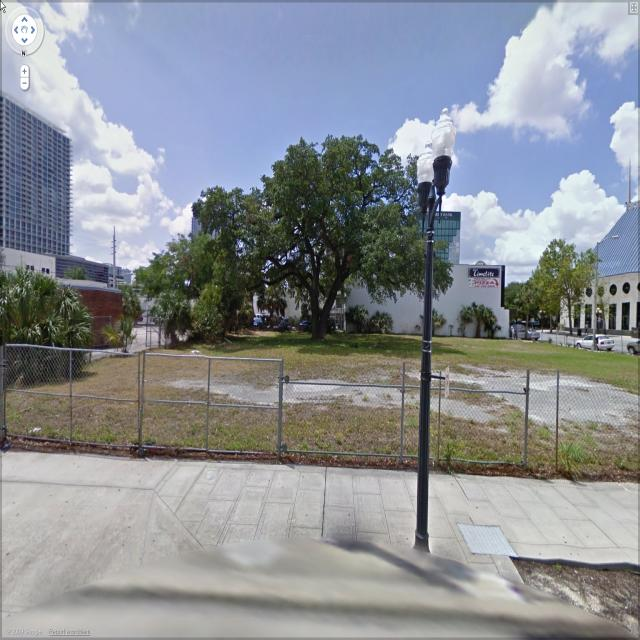b_1: (0, 94, 84, 255)
b_2: (307, 194, 517, 340), (539, 176, 640, 369), (1, 250, 144, 384), (188, 190, 258, 325)
